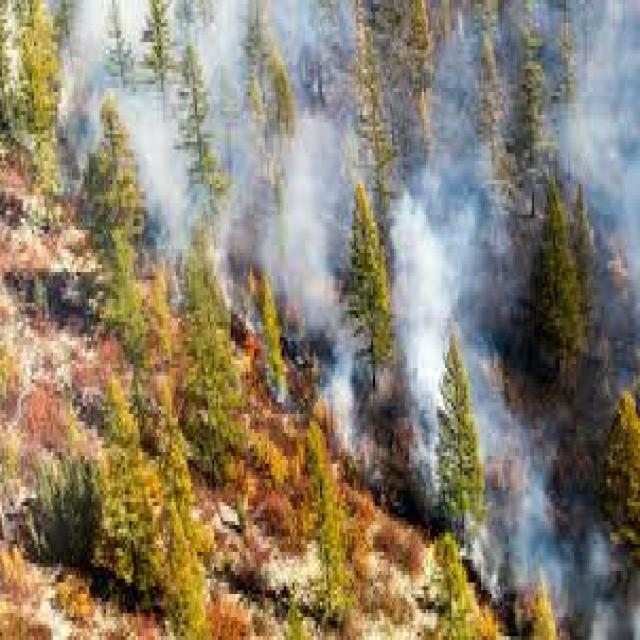Smoke: (282, 5, 640, 362), (268, 0, 482, 401), (531, 0, 640, 364)
